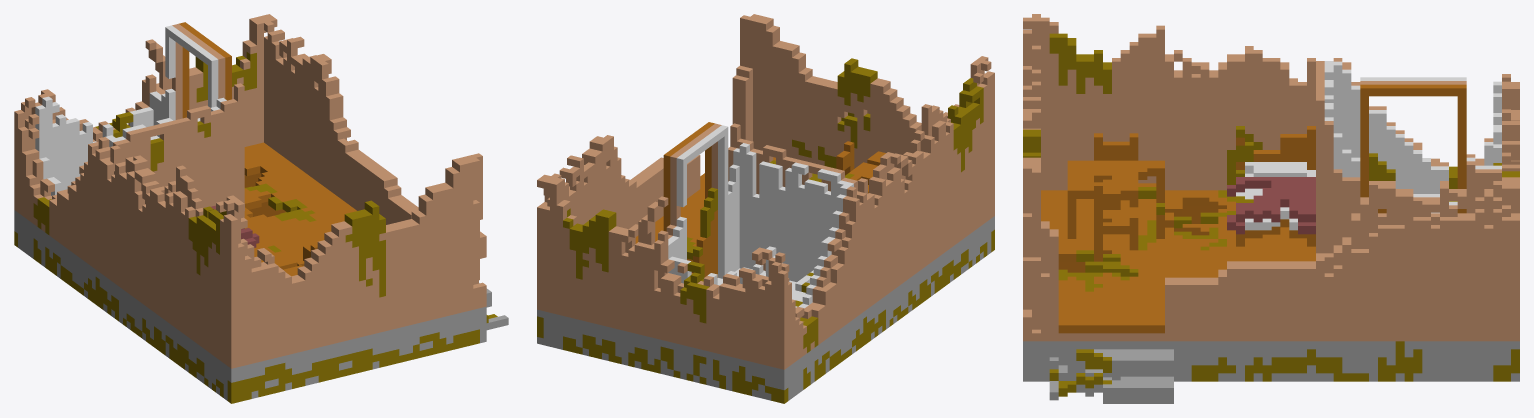
File: Casa_Derruida01.fbx
The picture shows the model from 3 angles, left to right: view 1: azimuth 30°, elevation 25°; view 2: azimuth 150°, elevation 25°; view 3: azimuth 270°, elevation 25°; orthographic projection. The views are drawn at different scales.
Visible parts, largest first — view 1: casitaderruida01_44x29x56; view 2: casitaderruida01_44x29x56; view 3: casitaderruida01_44x29x56.
Part boxes in pixels (x1,y1,x2,y2): casitaderruida01_44x29x56: (14, 14, 508, 403); casitaderruida01_44x29x56: (537, 14, 994, 403); casitaderruida01_44x29x56: (1023, 14, 1519, 403).
Size of the model in its own units: 800 by 527 by 1018.
